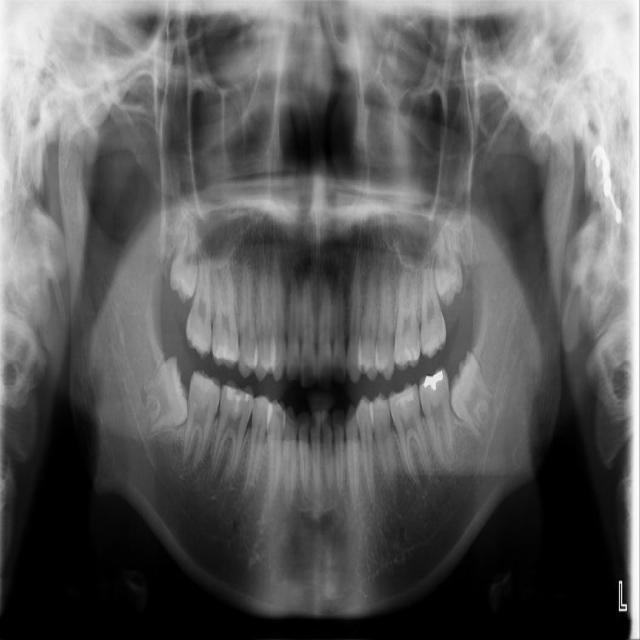3M ESPE Implant: (168, 210, 202, 304)
52: (210, 377, 260, 431), (413, 366, 456, 415)
73: (602, 568, 602, 578)
BioHorizons Implant: (419, 244, 448, 359)
BioLife Implant: (434, 220, 463, 307)
Biomet 3i Implant: (433, 349, 508, 444)
Blue Sky Bio Implant: (417, 366, 456, 467)
Caries: (184, 233, 212, 359)
Implant: (181, 367, 223, 472)
Keystone Dental Implant: (137, 355, 193, 432)
